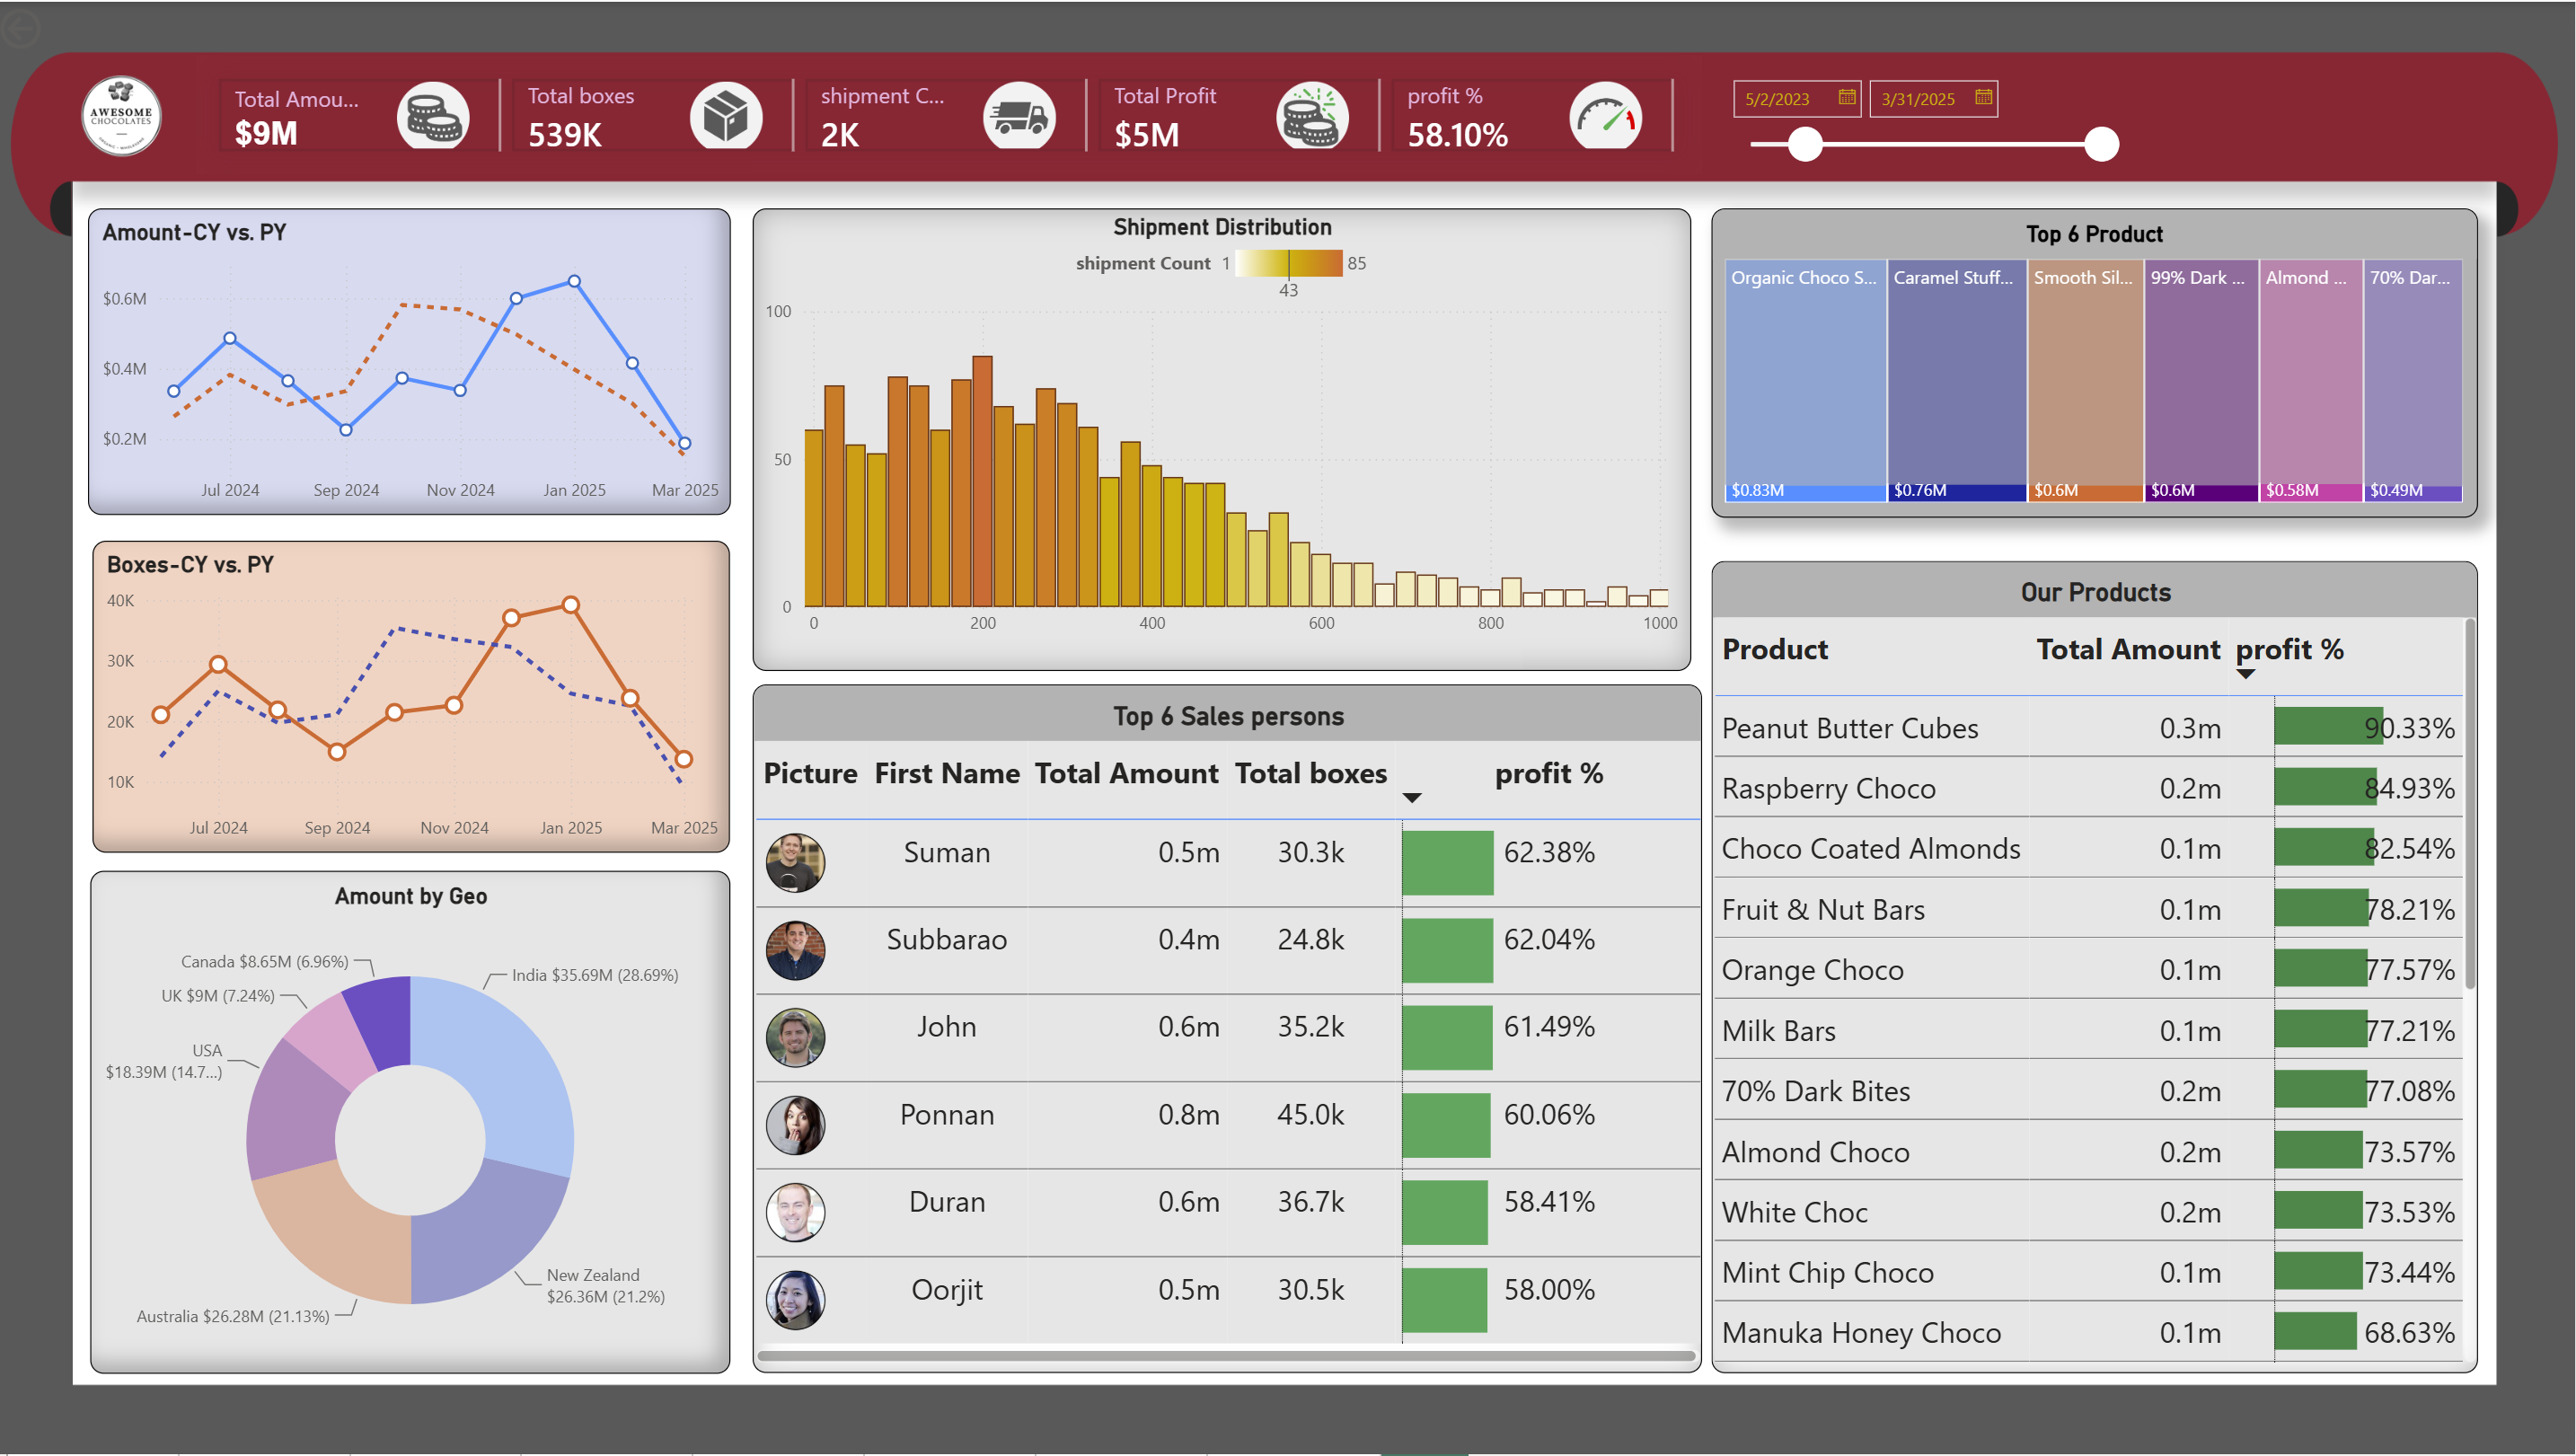

Layout of this report page (visuals, bound fields, positions):
{"tool":"powerbi","page":{"name":"Page 8","canvas":[1920,1080],"ordinal":7},"visuals":[{"type":"lineChart","title":"Amount-CY vs. PY","fields":{"Y":["shipments.Total Amount","shipments.Total amount(last year)"],"Category":["calendar.Start of Month"]},"box":[70,154,478,228],"z":0},{"type":"lineChart","title":"Boxes-CY vs. PY","fields":{"Category":["calendar.Start of Month"],"Y":["shipments.Total boxes","calendar.Total Boxes(last year)"]},"box":[74,400,474,232],"z":1000},{"type":"donutChart","title":"Amount by Geo","fields":{"Category":["locations.Geo"],"Y":["shipments.Total Amount"]},"box":[72,646,476,374],"z":2000},{"type":"clusteredColumnChart","title":"Shipment Distribution","fields":{"Category":["shipments.Boxes (bins)"],"Y":["shipments.shipment Count"]},"box":[564,154,698,344],"z":3000},{"type":"tableEx","title":"Top 6 Sales persons","fields":{"Values":["people.Picture","people.First Name","shipments.Total Amount","shipments.Total boxes","shipments.profit %"]},"box":[564,508,706,512],"z":4000},{"type":"treemap","title":"Top 6 Product","fields":{"Values":["shipments.Total Amount"],"Group":["products.Product"]},"box":[1278,154,570,230],"z":5000},{"type":"actionButton","box":[0,0,100,40],"z":6000},{"type":"tableEx","title":"Our Products","fields":{"Values":["products.Product","shipments.Total Amount","shipments.profit %"]},"box":[1278,416,570,604],"z":7000},{"type":"cardVisual","fields":{"Data":["shipments.Total Amount","shipments.Total boxes","shipments.shipment Count","shipments.Total Profit","shipments.profit %"]},"box":[150,40,1120,88],"z":8000},{"type":"slicer","fields":{"Values":["calendar.cal_date"]},"box":[1280,48,308,72],"z":9000}]}

Visuals, with their boxes in screenshot pixels (x1, y1, x2, y2), scaled from the page's 1920x1080 canvas onto the 2576x1456 screenshot:
"Amount-CY vs. PY" lineChart: (94, 207, 736, 515)
"Boxes-CY vs. PY" lineChart: (100, 539, 736, 852)
"Amount by Geo" donutChart: (97, 871, 736, 1375)
"Shipment Distribution" clusteredColumnChart: (756, 207, 1693, 671)
"Top 6 Sales persons" tableEx: (756, 684, 1704, 1375)
"Top 6 Product" treemap: (1715, 207, 2479, 517)
actionButton: (0, 0, 134, 54)
"Our Products" tableEx: (1715, 560, 2479, 1375)
cardVisual - shipments.Total Amount x shipments.Total boxes: (201, 54, 1704, 172)
slicer - calendar.cal_date: (1717, 65, 2130, 162)
